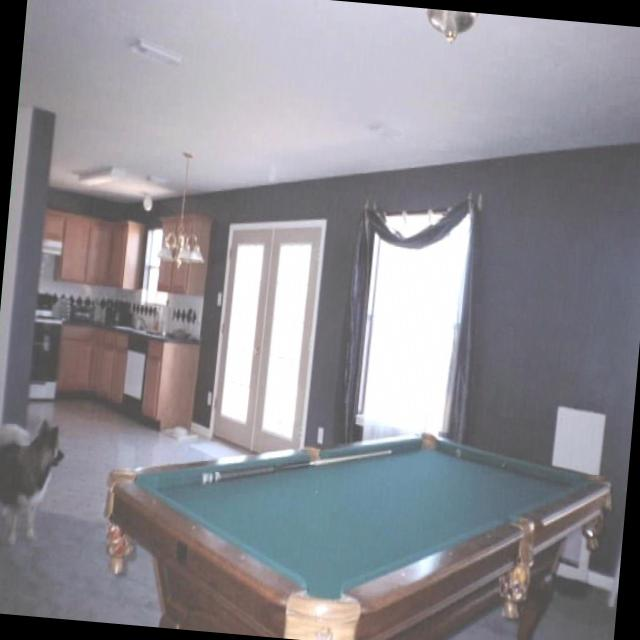apple: (124, 339, 147, 376)
banana: (84, 331, 118, 378)
cup glass: (354, 9, 469, 142)
door handle: (209, 0, 335, 413)
kitchen drawers: (31, 232, 220, 502)
microwave oven: (402, 237, 449, 353)
pottery: (62, 68, 85, 122)
sink basin: (84, 229, 162, 277)
stove burner: (70, 288, 184, 362)
tab: (78, 167, 124, 206)
tissue: (354, 206, 379, 270)
vase -X: (93, 15, 147, 120)
